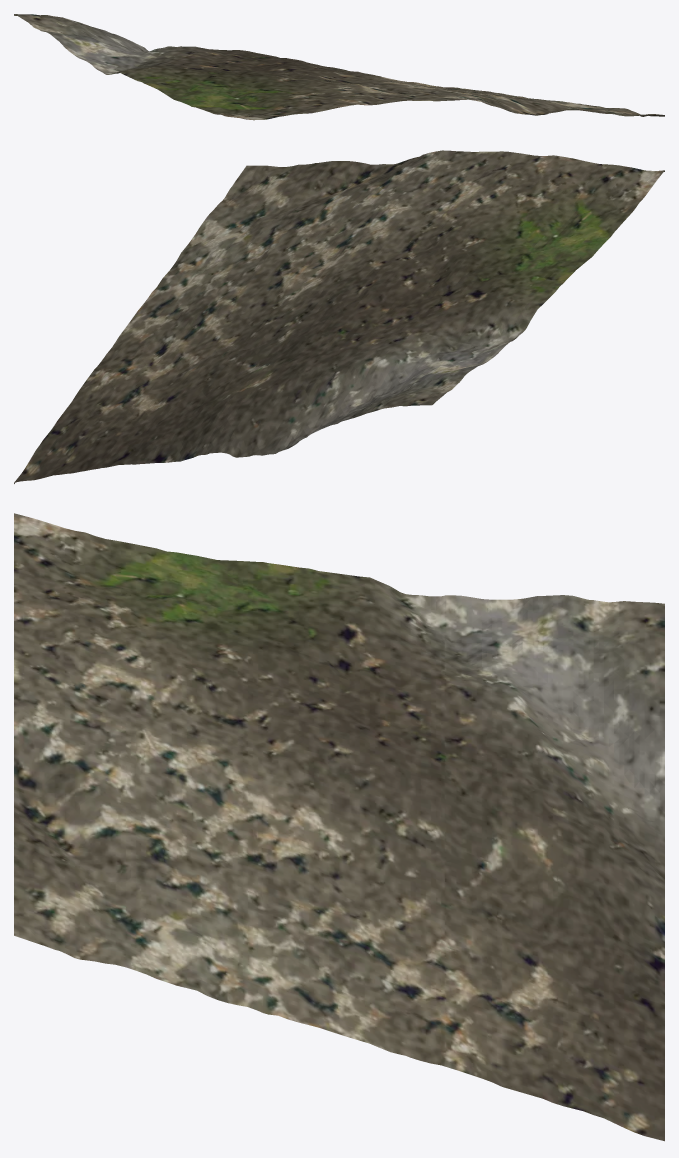
3 renders of one model, top to bottom at view 1: azimuth 30°, elevation 25°; view 2: azimuth 150°, elevation 25°; view 3: azimuth 270°, elevation 25°, orthographic. The views are drawn at different scales.
Size of the model in its own units: 250 by 141 by 241.
Materials: 1 (1 with a texture image).
